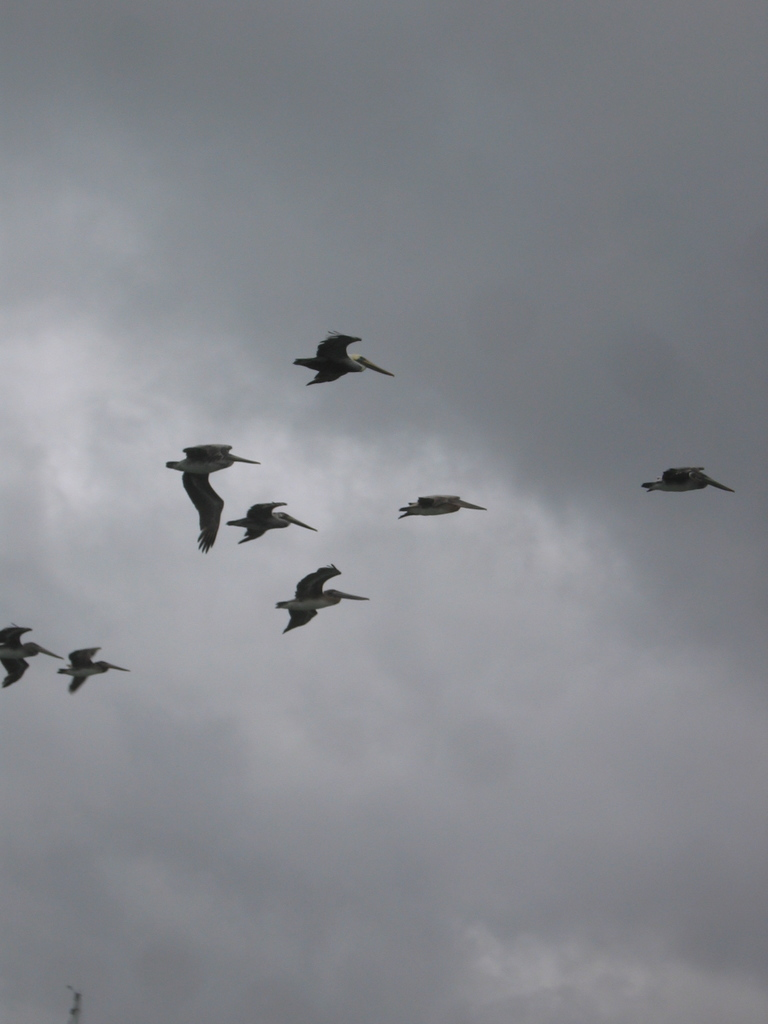Bird: (0, 330, 736, 696)
